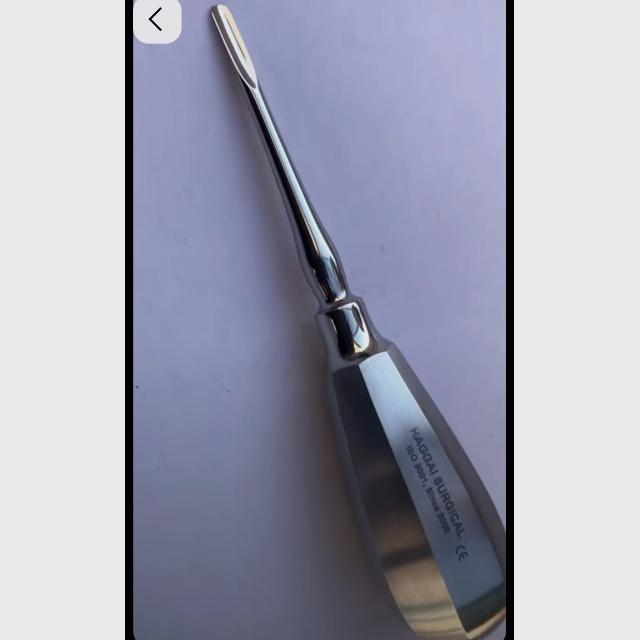botador: (206, 4, 508, 639)
